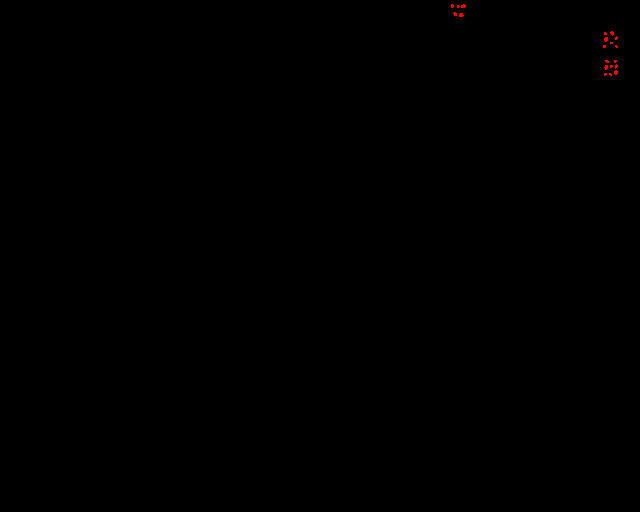Target: (461, 4, 466, 8), (459, 13, 464, 17), (610, 31, 614, 36), (604, 37, 608, 42), (604, 65, 608, 70), (614, 70, 618, 75), (453, 12, 457, 16), (615, 64, 618, 69), (451, 4, 454, 8), (615, 36, 618, 40), (605, 60, 609, 63), (457, 5, 460, 8), (604, 32, 607, 35), (603, 45, 606, 48), (615, 45, 618, 48), (614, 60, 617, 63), (610, 65, 613, 68), (604, 73, 607, 76), (609, 73, 612, 76), (610, 42, 613, 44)
